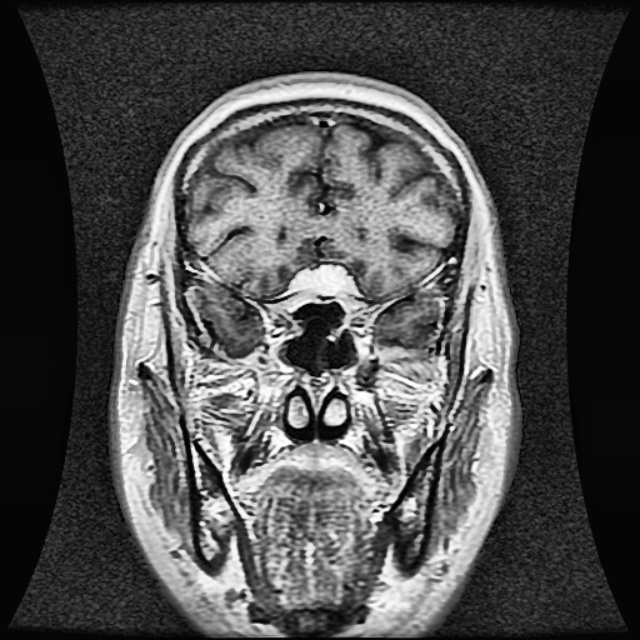Glioma: (287, 263, 359, 294)
